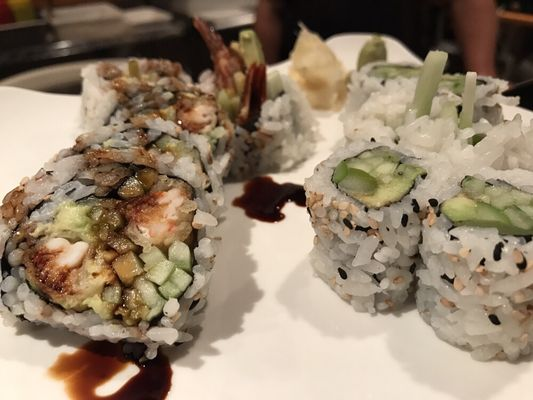soup: (303, 57, 533, 366)
